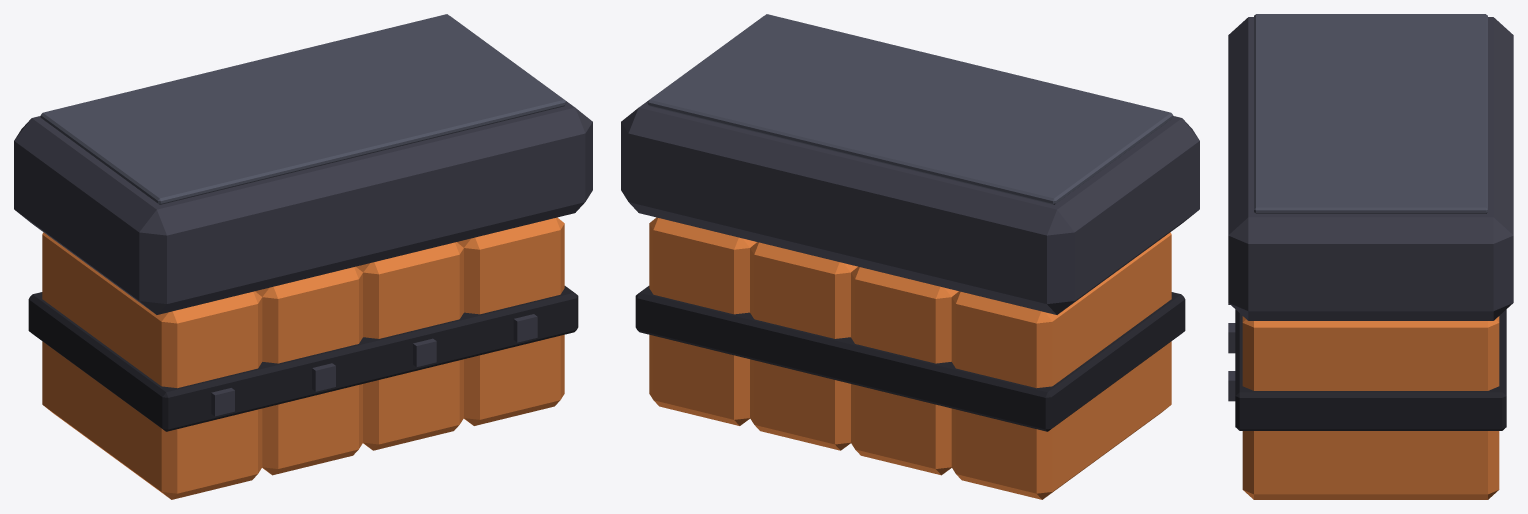
File: Anvil.fbx
3 views of the same model, side by side, from view 1: azimuth 30°, elevation 25°; view 2: azimuth 150°, elevation 25°; view 3: azimuth 270°, elevation 25° (orthographic).
Parts seen in each view (by area): view 1: Block, StrikeFace, Timber0, Band, Timber2, Timber1, Timber3; view 2: Block, StrikeFace, Timber0, Band, Timber2, Timber1, Timber3; view 3: StrikeFace, Block, Timber3, Band.
Boxes of the visible parts, x1=… form: Block: x1=14, y1=16, x2=592, y2=314; StrikeFace: x1=40, y1=14, x2=566, y2=204; Timber0: x1=42, y1=232, x2=262, y2=499; Band: x1=28, y1=286, x2=578, y2=431; Timber2: x1=356, y1=242, x2=463, y2=450; Timber1: x1=255, y1=266, x2=362, y2=475; Timber3: x1=457, y1=217, x2=564, y2=425; Block: x1=621, y1=16, x2=1199, y2=314; StrikeFace: x1=647, y1=14, x2=1173, y2=204; Timber0: x1=951, y1=232, x2=1171, y2=499; Band: x1=635, y1=286, x2=1185, y2=431; Timber2: x1=750, y1=242, x2=857, y2=450; Timber1: x1=851, y1=266, x2=958, y2=475; Timber3: x1=649, y1=217, x2=756, y2=425; StrikeFace: x1=1254, y1=14, x2=1487, y2=213; Block: x1=1228, y1=17, x2=1513, y2=320; Timber3: x1=1242, y1=316, x2=1499, y2=499; Band: x1=1235, y1=309, x2=1506, y2=430.
Bounding box in the file's own units: 360 × 230 × 200.
